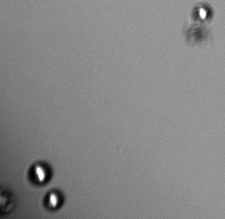Dead Cell: (1, 184, 17, 216)
Living Cell: (27, 157, 53, 187), (41, 186, 67, 213), (192, 3, 214, 21)
